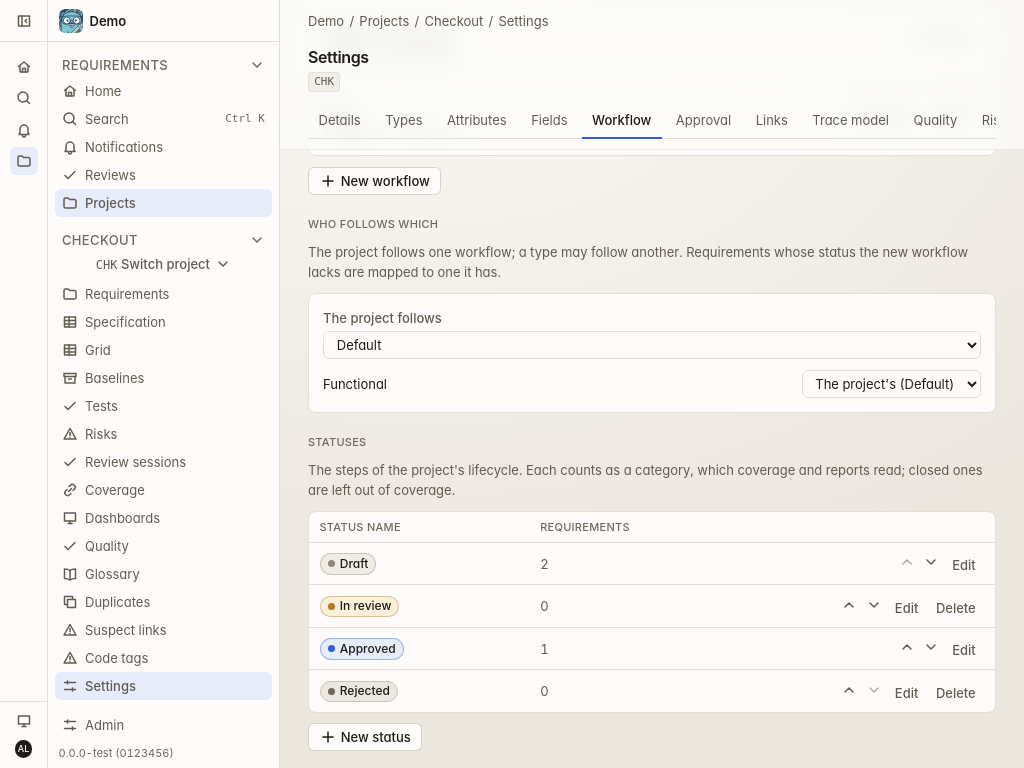
Test case: a project's workflow settings › says what the server refused when a mapping leaves a status out
The width and height of the screenshot is (1024, 768).
(page scrolled)
Select "Lean" in the dropdown named "Workflow of Functional" at (891, 384), box [802, 370, 981, 398]
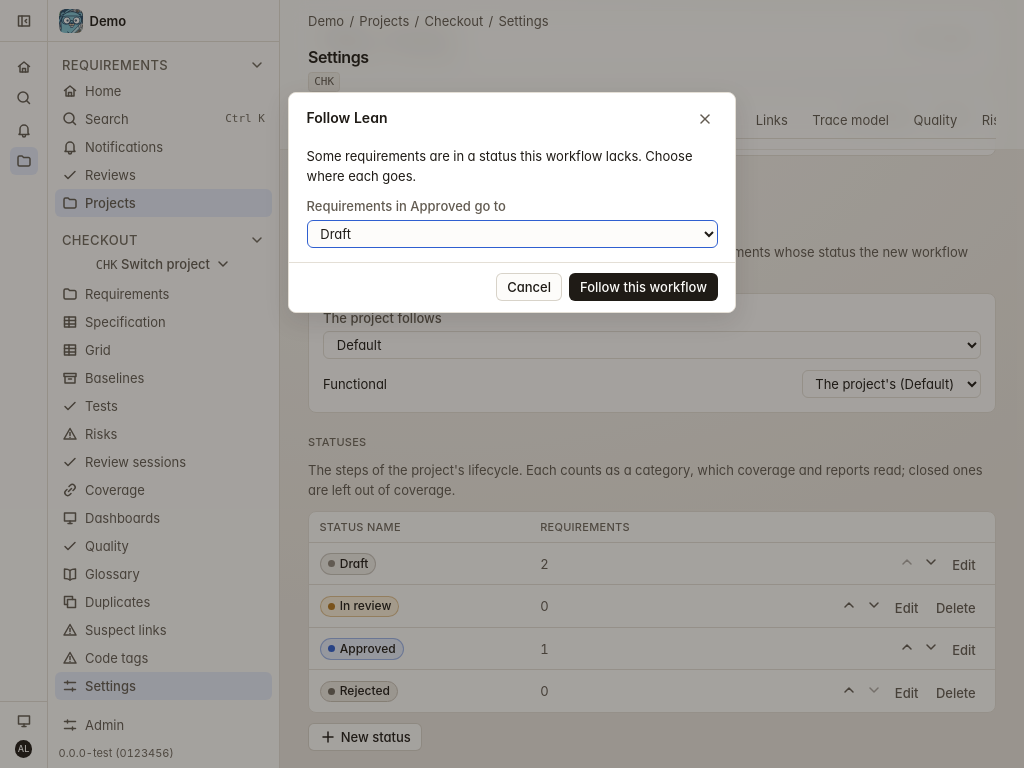
Click the button "Follow this workflow" at (643, 287), box [569, 273, 718, 301]
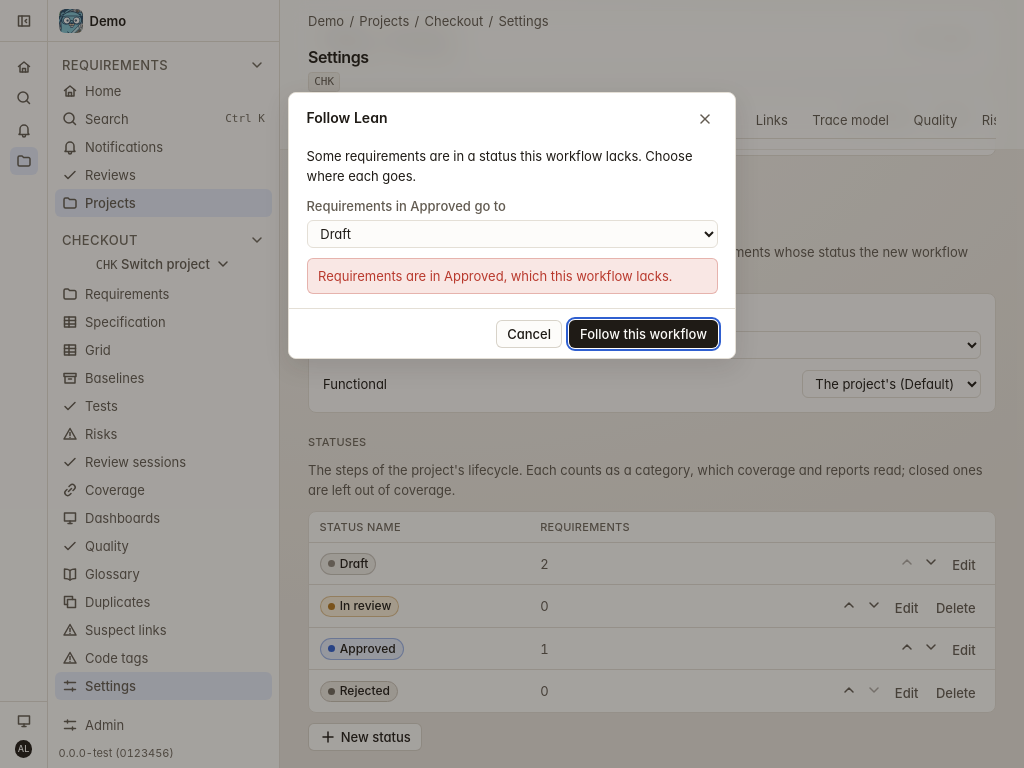
Now the text "Requirements are in Approved, which this workflow lacks." is shown, box [318, 266, 706, 286]
